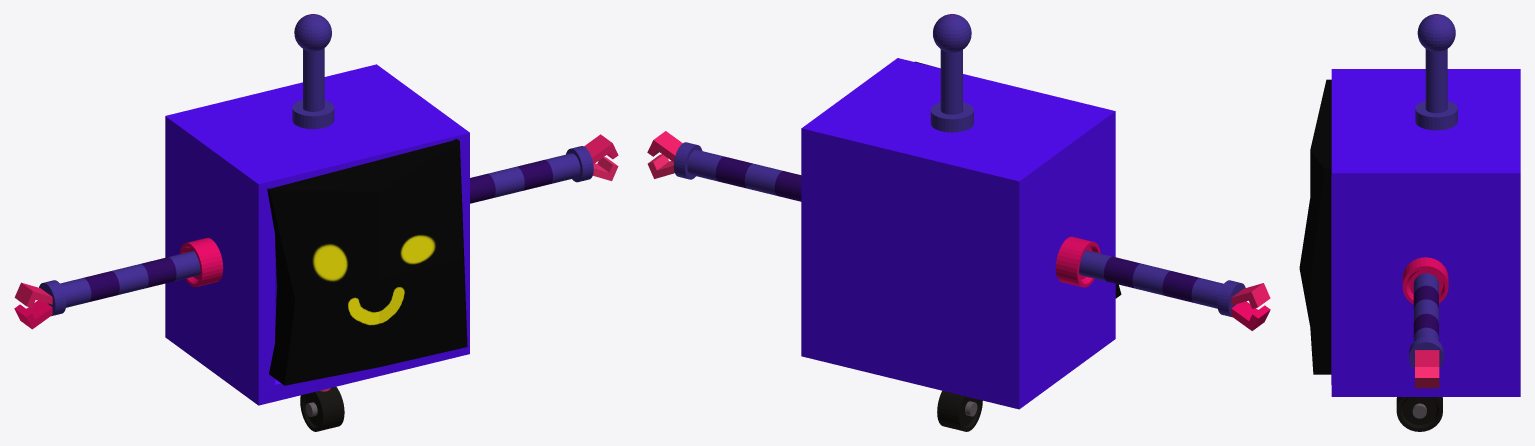
The model's file is Robot.glb.
The picture shows the model from 3 angles, left to right: view 1: azimuth 30°, elevation 25°; view 2: azimuth 150°, elevation 25°; view 3: azimuth 270°, elevation 25°; orthographic projection. The views are drawn at different scales.
Parts seen in each view (by area): view 1: Cube.002, Cube.006, Cylinder.008, Cylinder.005, Cylinder.007, Cylinder.001, Cube.007, Cube.005, Cube.003; view 2: Cube.002, Cylinder.008, Cylinder.005, Cylinder.007, Cylinder.001, Cube.007, Cube.005, Cube.003; view 3: Cube.002, Cube.006, Cylinder.007, Cylinder.005, Cylinder.001, Cube.004, Cube.003.
Boxes of the visible parts, box(x1,y1,x2,y2) form: Cube.002: box(165, 64, 469, 405); Cube.006: box(267, 139, 467, 385); Cylinder.008: box(39, 238, 223, 316); Cylinder.005: box(470, 146, 593, 203); Cylinder.007: box(292, 14, 334, 129); Cylinder.001: box(300, 387, 344, 431); Cube.007: box(14, 300, 52, 329); Cube.005: box(14, 282, 52, 307); Cube.003: box(584, 134, 618, 164); Cube.002: box(801, 58, 1115, 409); Cylinder.008: box(1055, 236, 1245, 317); Cylinder.005: box(673, 142, 801, 201); Cylinder.007: box(930, 14, 973, 132); Cylinder.001: box(937, 391, 982, 431); Cube.007: box(1231, 301, 1270, 330); Cube.005: box(1231, 283, 1270, 308); Cube.003: box(647, 131, 682, 162); Cube.002: box(1331, 69, 1520, 396); Cube.006: box(1299, 79, 1331, 374); Cylinder.007: box(1415, 14, 1457, 130); Cylinder.005: box(1402, 257, 1448, 369); Cylinder.001: box(1396, 397, 1442, 431); Cube.004: box(1415, 367, 1439, 388); Cube.003: box(1415, 350, 1439, 366).
Bounding box in the file's own units: 2.23 × 1.46 × 0.7123.
Materials: 19 (4 with a texture image).
